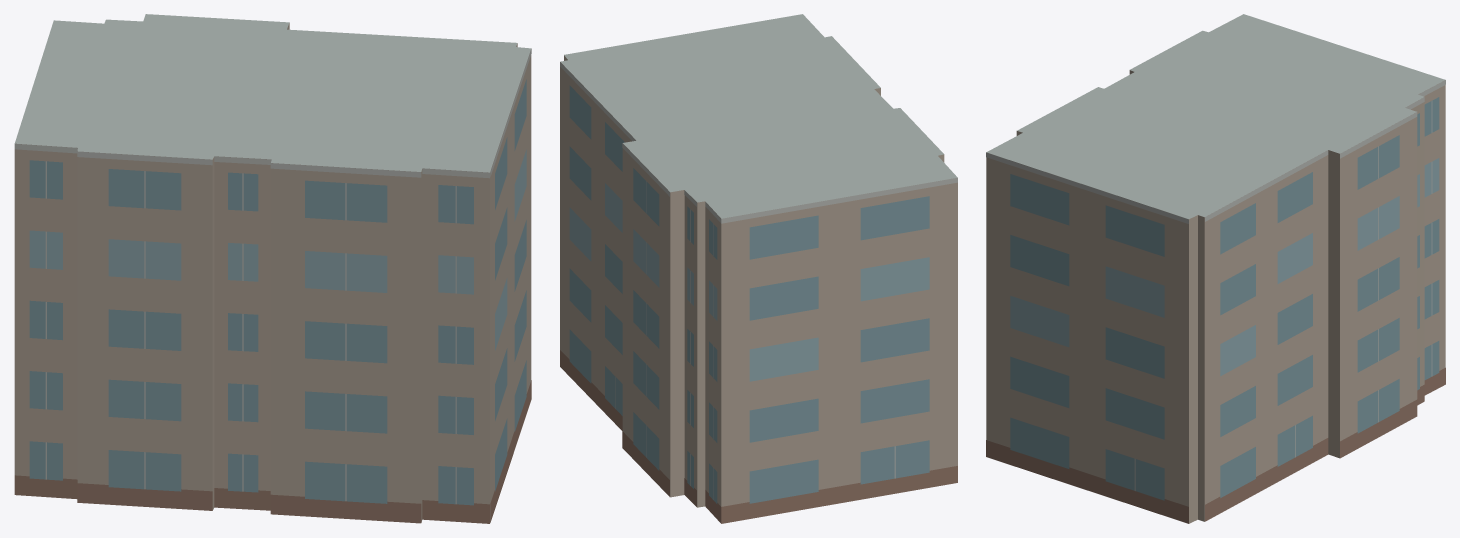
The model's file is survey-upis-32657201.glb.
The picture shows the model from 3 angles, left to right: view 1: azimuth 30°, elevation 25°; view 2: azimuth 150°, elevation 25°; view 3: azimuth 270°, elevation 25°; orthographic projection. The views are drawn at different scales.
Parts seen in each view (by area): view 1: survey-upis-32657201.tmp; view 2: survey-upis-32657201.tmp; view 3: survey-upis-32657201.tmp.
Part boxes in pixels (x1,y1,x2,y2): survey-upis-32657201.tmp: (14,14,531,523); survey-upis-32657201.tmp: (560,14,957,523); survey-upis-32657201.tmp: (986,14,1445,523).
Size of the model in its own units: 21.91 by 15.15 by 20.73.
